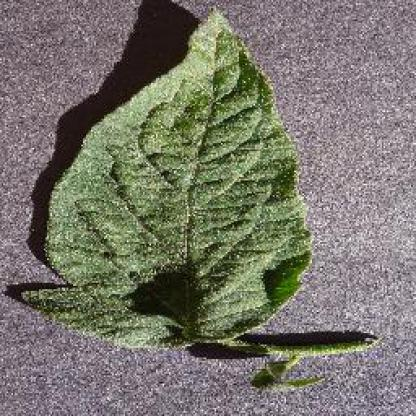bad leaf: (33, 11, 368, 392)
